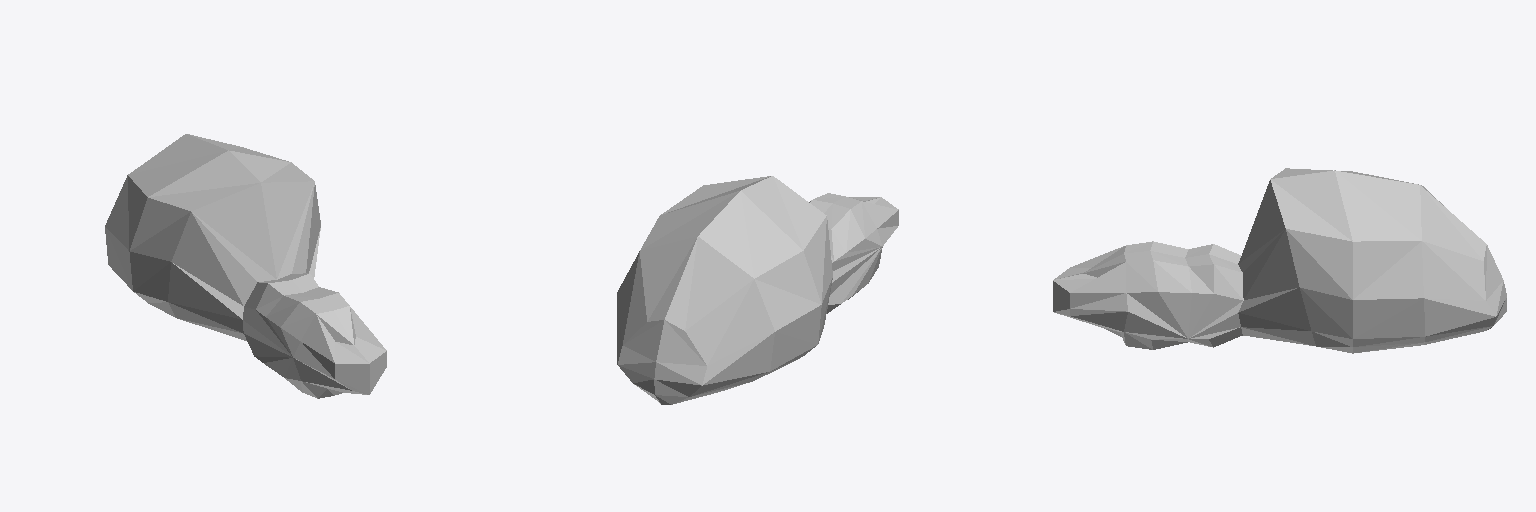
The model's file is black_widow_torso_and_head.obj.
3 renders of one model, left to right at view 1: azimuth 30°, elevation 25°; view 2: azimuth 150°, elevation 25°; view 3: azimuth 270°, elevation 25°, orthographic.
Parts seen in each view (by area): view 1: initialShadingGroup_SpiderHalf2; view 2: initialShadingGroup_SpiderHalf2; view 3: initialShadingGroup_SpiderHalf2.
Part boxes in pixels (bbox=[...]): initialShadingGroup_SpiderHalf2: bbox=[105, 134, 386, 398]; initialShadingGroup_SpiderHalf2: bbox=[617, 176, 898, 404]; initialShadingGroup_SpiderHalf2: bbox=[1053, 168, 1506, 353].
Size of the model in its own units: 3.82 by 3.46 by 8.34.